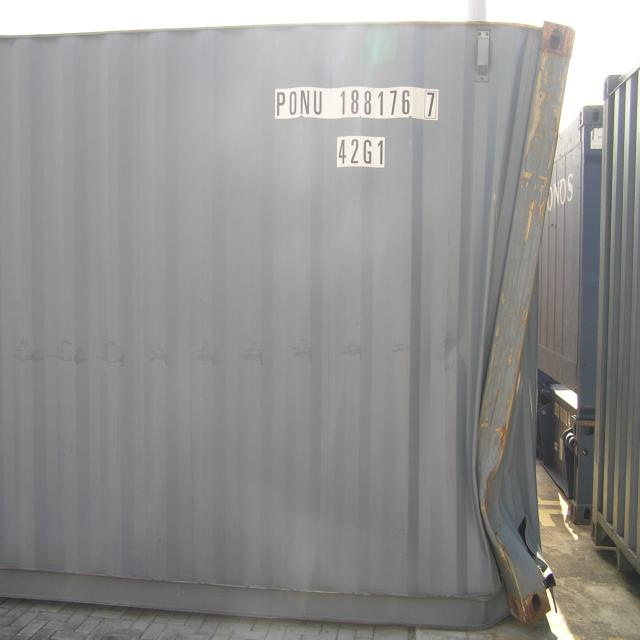dent: (472, 18, 620, 623)
